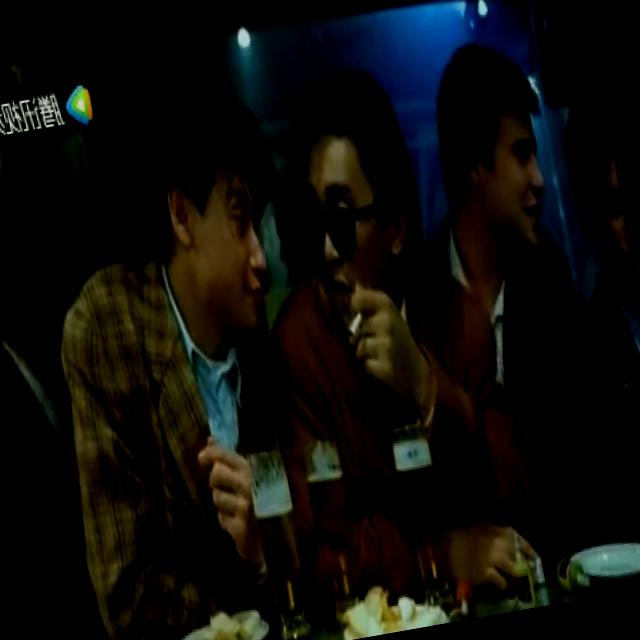smoke: (344, 310, 366, 340)
